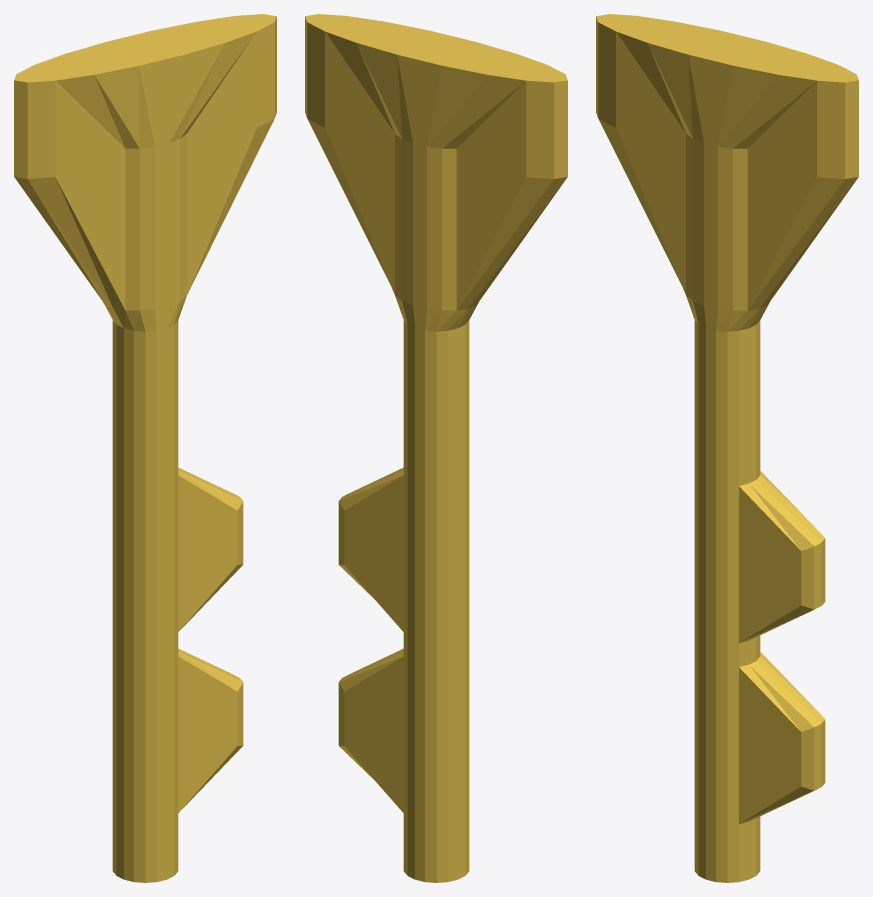
File: Key.FBX
The picture shows the model from 3 angles, left to right: view 1: azimuth 30°, elevation 25°; view 2: azimuth 150°, elevation 25°; view 3: azimuth 330°, elevation 25°; orthographic projection.
Visible parts, largest first — view 1: Cylinder001; view 2: Cylinder001; view 3: Cylinder001.
Part boxes in pixels (<box>): Cylinder001: <box>14,14,276,882</box>; Cylinder001: <box>305,14,567,882</box>; Cylinder001: <box>596,14,858,882</box>.
Bounding box in the file's own units: 3.85 × 0.8322 × 11.5.
Materials: 1 (1 with a texture image).
